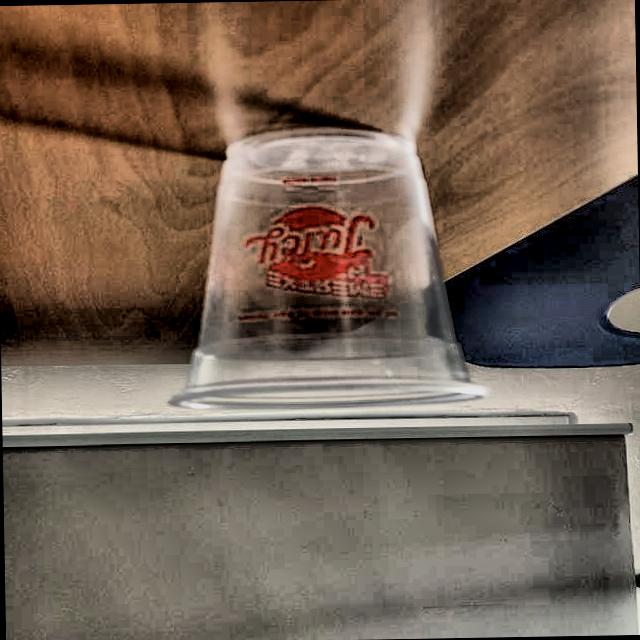plastic cup: (160, 126, 490, 415)
